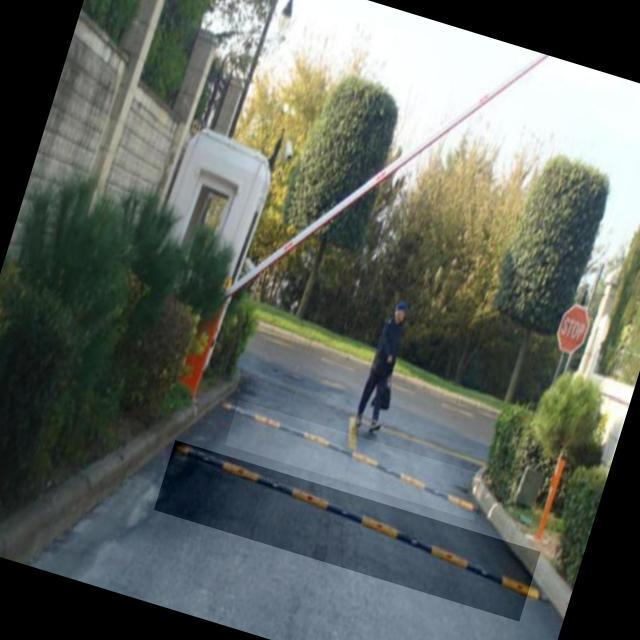speedbreaker: (154, 440, 540, 621), (224, 400, 486, 520)
